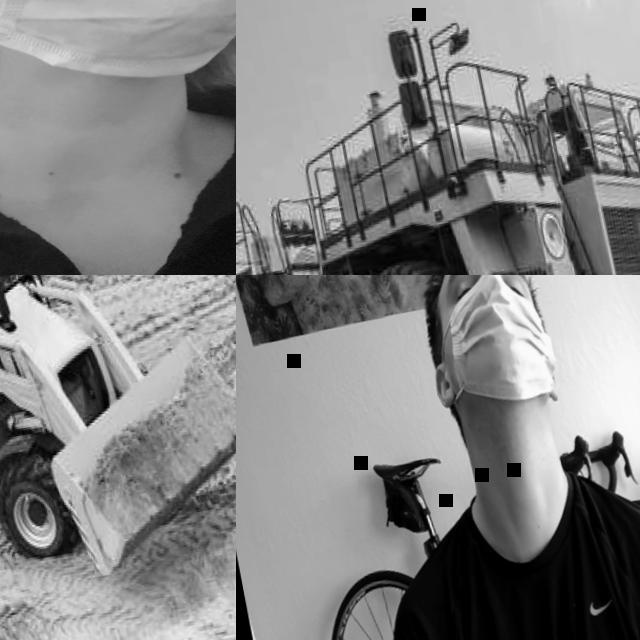Mask: (0, 0, 236, 123), (421, 275, 559, 416)
NO-Safety Vest: (0, 74, 236, 275), (400, 472, 640, 640)
Person: (310, 275, 640, 640), (0, 0, 236, 275)
machinery: (236, 0, 640, 275), (0, 275, 236, 619)
